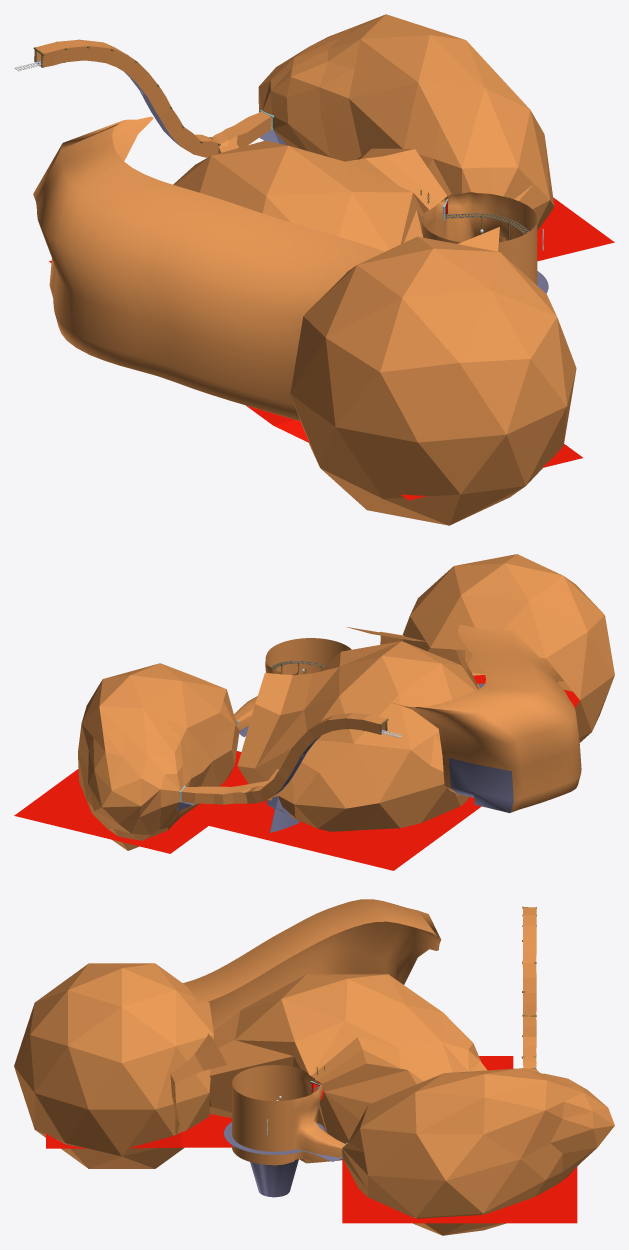
The model's file is MineLevel.fbx.
3 views of the same model, one above another, from view 1: azimuth 30°, elevation 25°; view 2: azimuth 150°, elevation 25°; view 3: azimuth 270°, elevation 25° (orthographic). The views are drawn at different scales.
Visible parts, largest first — view 1: LavaRoom, Shell, CurveShell, HighResTRack.021, LavaPlane.001, LavaPlane; view 2: Shell, CurveShell, LavaRoom, LavaPlane, LavaPlane.001, HighResTRack.021, Plane.003; view 3: Shell, LavaRoom, CurveShell, HighResTRack.021, LavaPlane.001, LavaPlane, HighResTRack.022.
Part boxes in pixels (x1,y1,x2,y2): LavaRoom: [290, 236, 576, 525]; Shell: [36, 14, 554, 251]; CurveShell: [33, 116, 383, 421]; HighResTRack.021: [421, 192, 537, 285]; LavaPlane.001: [537, 197, 614, 261]; LavaPlane: [49, 260, 582, 500]; Shell: [78, 627, 478, 850]; CurveShell: [393, 624, 581, 813]; LavaRoom: [402, 554, 614, 742]; LavaPlane: [198, 675, 579, 870]; LavaPlane.001: [14, 751, 248, 853]; HighResTRack.021: [234, 638, 351, 730]; Plane.003: [266, 796, 299, 832]; Shell: [170, 907, 614, 1235]; LavaRoom: [14, 963, 213, 1168]; CurveShell: [183, 899, 441, 1030]; HighResTRack.021: [232, 1065, 345, 1165]; LavaPlane.001: [342, 1159, 577, 1223]; LavaPlane: [46, 1056, 513, 1148]; HighResTRack.022: [224, 1122, 341, 1197].
Bounding box in the file's own units: 35331 × 17326 × 43970.
